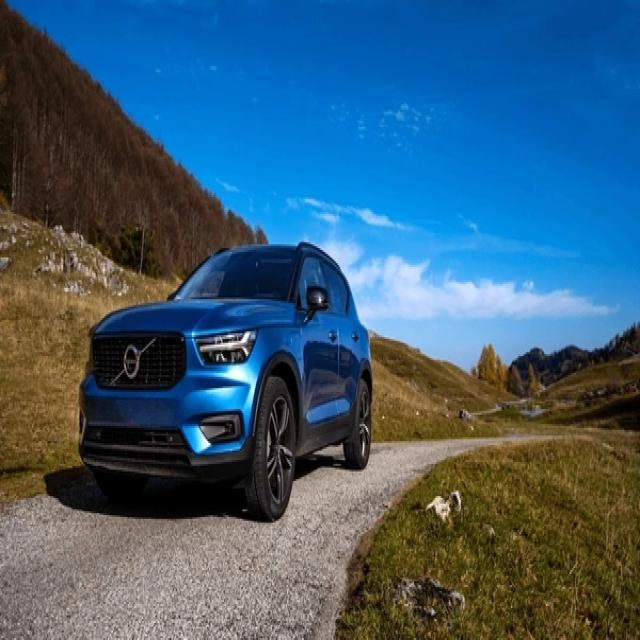volvo: (122, 343, 144, 382)
